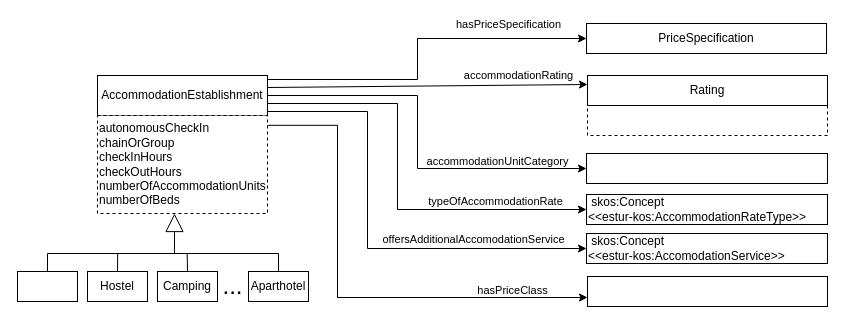
The diagram is 845 pixels wide and 324 high, and some of its shapes have lost their labels. Here are the shapes that lost their labels. From the top down, the box of each, then its label:
(586, 104, 828, 136): ratingUnit ratingValue
(586, 152, 828, 184): skos:Concept <<estur-kos:AccommodationUnitCategory>>
(16, 270, 78, 302): Hotel
(586, 276, 828, 306): skos:Concept <<estur-kos:PriceClass>>
